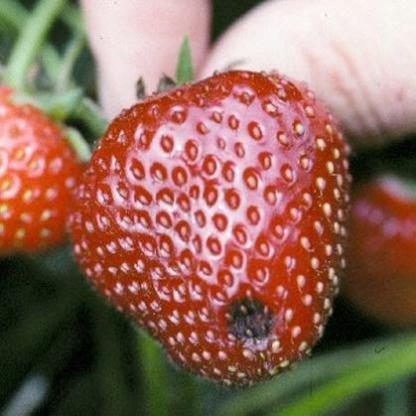Strawberry_Anthracnose_Fruit_Rot: (221, 294, 280, 379)
